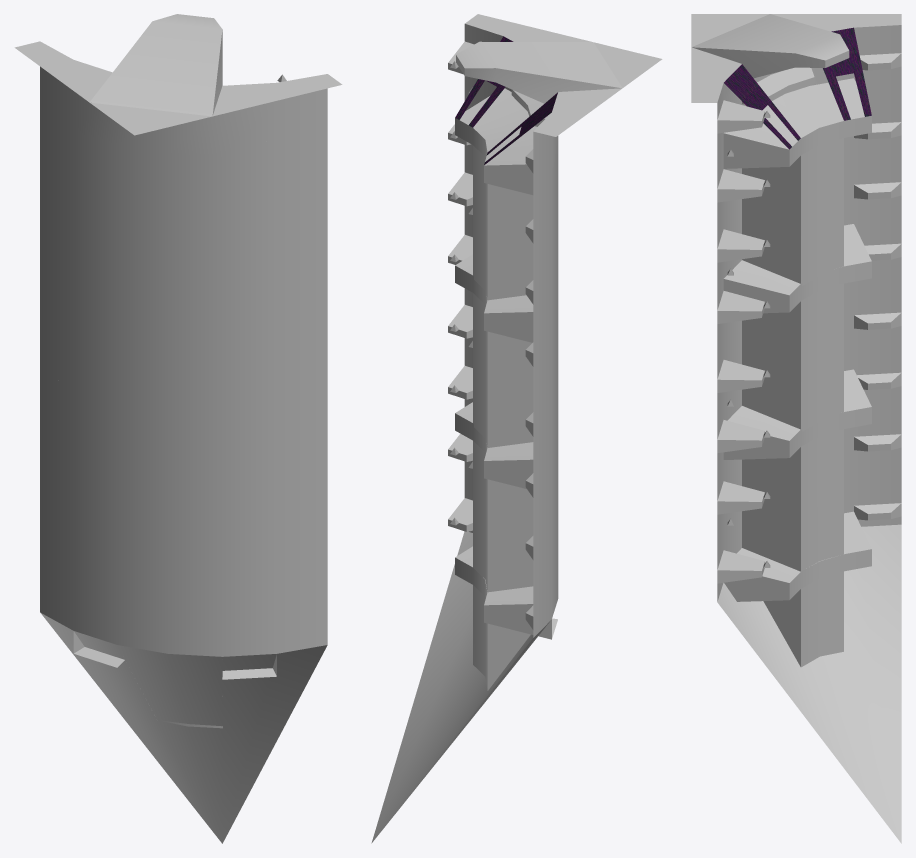
File: debigh01.FBX
The picture shows the model from 3 angles, left to right: view 1: azimuth 30°, elevation 25°; view 2: azimuth 150°, elevation 25°; view 3: azimuth 270°, elevation 25°; orthographic projection. The views are drawn at different scales.
Visible parts, largest first — view 1: shaft, cone, debigh01, ledges, terrain, wedges; view 2: shaft, wedges, ledges, cone, terrain, debigh01, web__2e; view 3: shaft, cone, ledges, wedges, terrain, web__2e, debigh01.
Boxes of the visible parts, x1,y1,x2,y2 form: shaft: [40, 113, 327, 728]; cone: [40, 612, 327, 843]; debigh01: [40, 66, 327, 157]; ledges: [89, 14, 222, 116]; terrain: [14, 41, 342, 135]; wedges: [73, 631, 276, 679]; shaft: [464, 87, 558, 690]; wedges: [455, 88, 557, 639]; ledges: [448, 41, 622, 629]; cone: [371, 531, 550, 843]; terrain: [465, 14, 662, 136]; debigh01: [464, 24, 558, 194]; web__2e: [455, 36, 557, 165]; shaft: [717, 87, 901, 667]; cone: [717, 524, 901, 843]; ledges: [692, 14, 901, 583]; wedges: [723, 78, 871, 601]; terrain: [691, 14, 901, 102]; web__2e: [724, 27, 871, 149]; debigh01: [717, 25, 901, 164].
Size of the model in its own units: 64 by 257 by 64.
